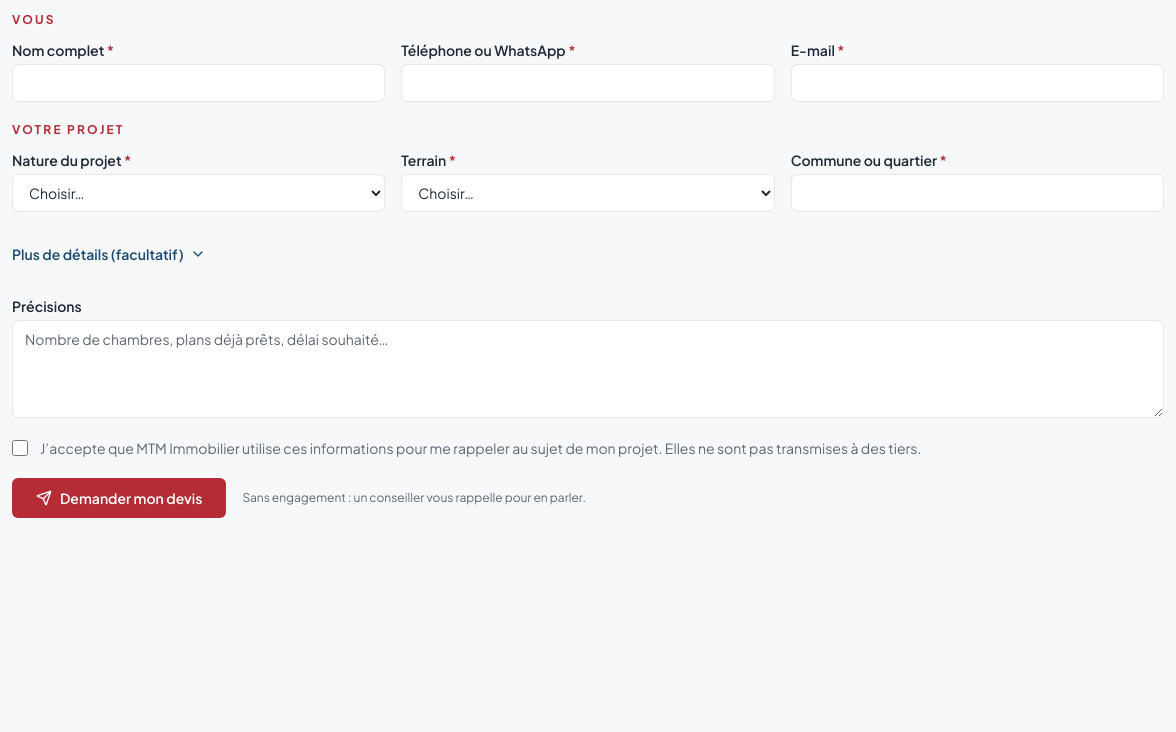
Test: FormulaireDevis › efface le message d’erreur d’un champ dès qu’il est corrigé
The width and height of the screenshot is (1176, 732).
Step 1. Click the button "Demander mon devis" → (119, 498), box [12, 478, 226, 518]
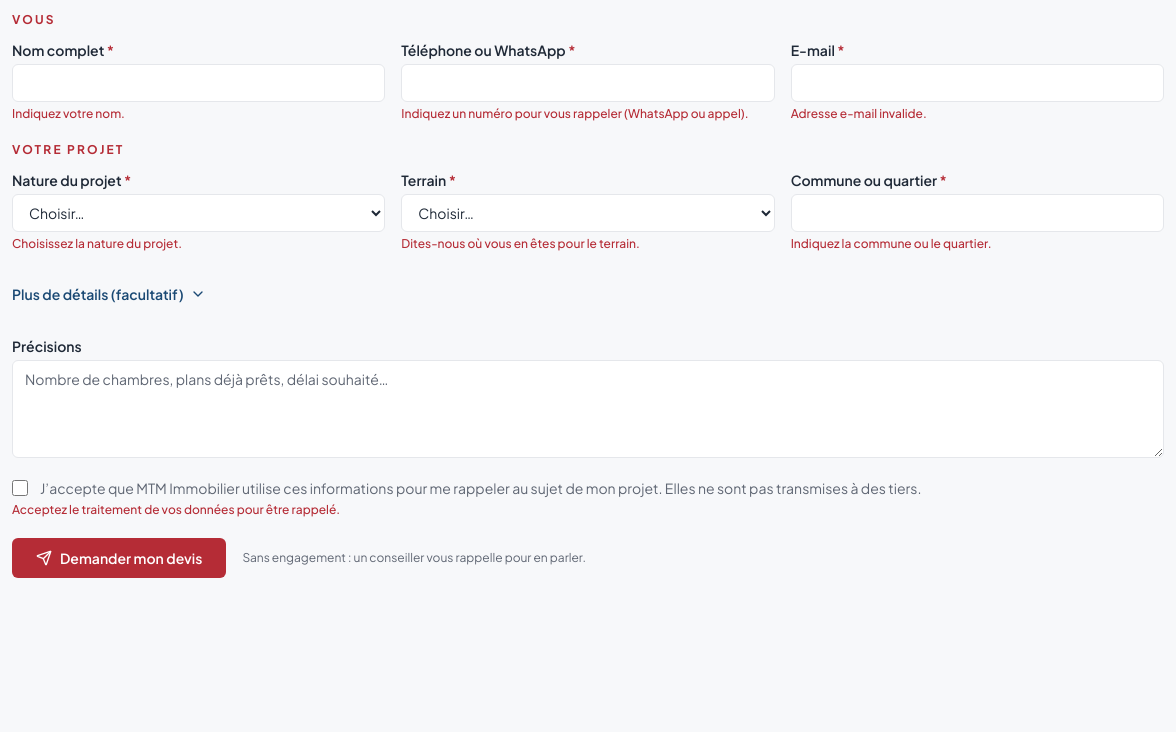
Check: the text "Indiquez votre nom." is shown, box [12, 106, 125, 121]
Step 2. Type "Awa Diop" into the field labelled "Nom complet *" → (199, 83), box [12, 64, 385, 102]
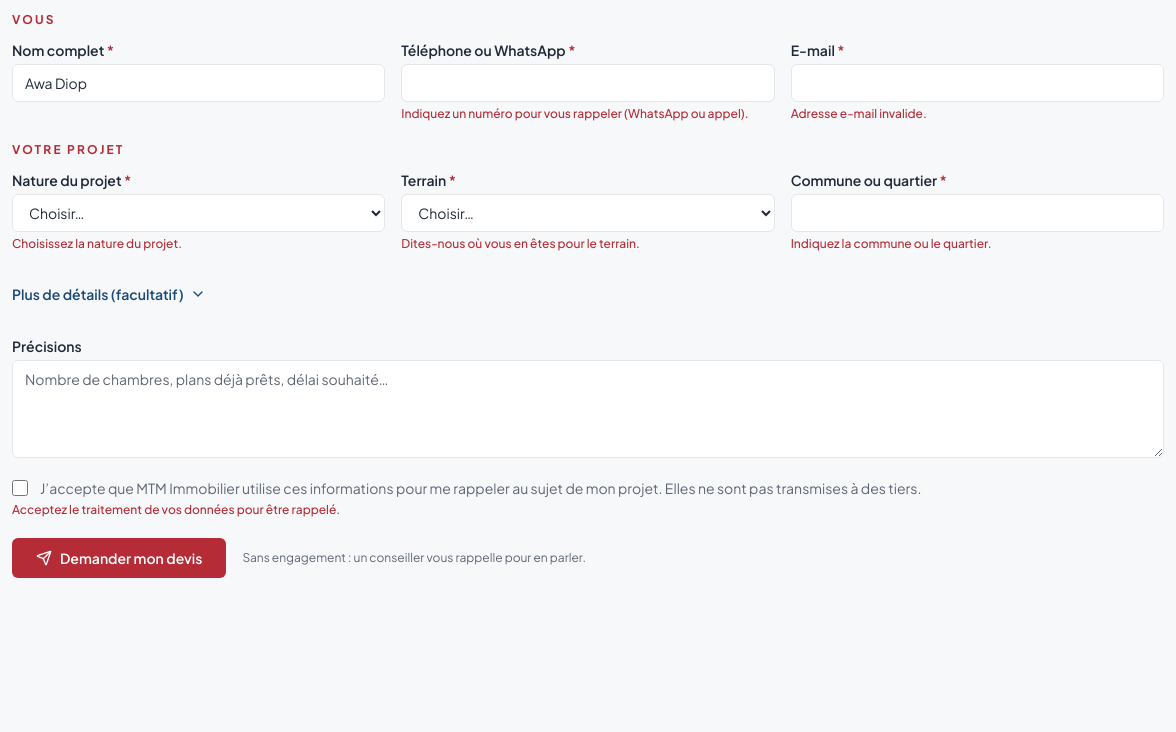
Check: the text "Choisissez la nature du projet." is shown, box [12, 236, 182, 251]
Check: the text "Indiquez votre nom." is gone
